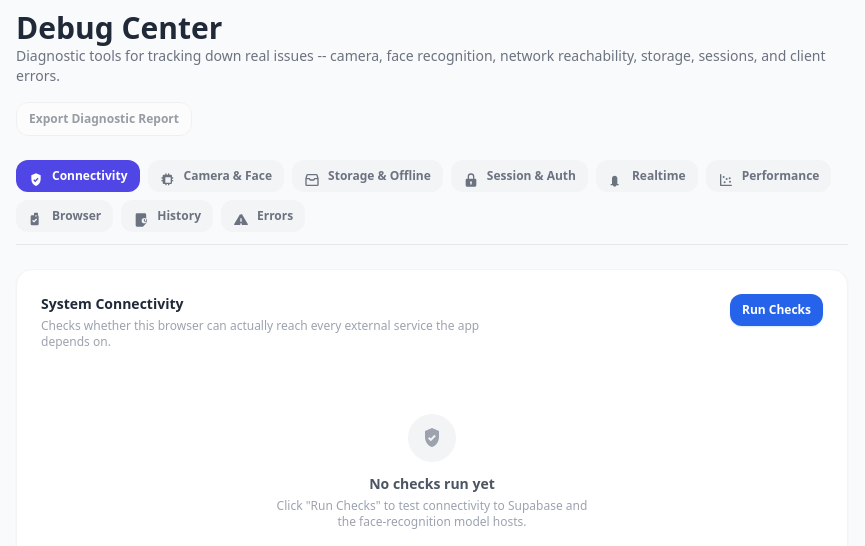
it: DebugCenterView › the History tab shows an empty state when no runs have happened yet
Click the button "History" at (167, 216), box 121,200 -> 213,232
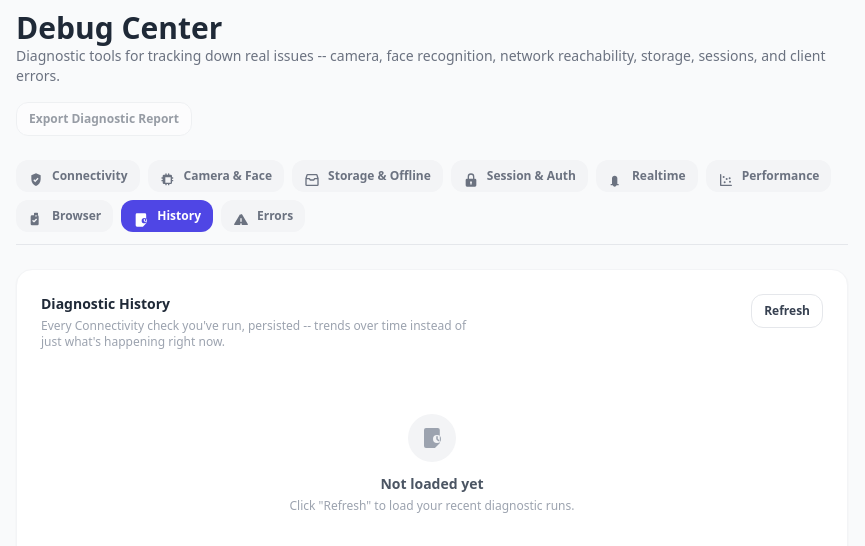
Click the button "Refresh" at (787, 311), box 751,294 -> 823,328
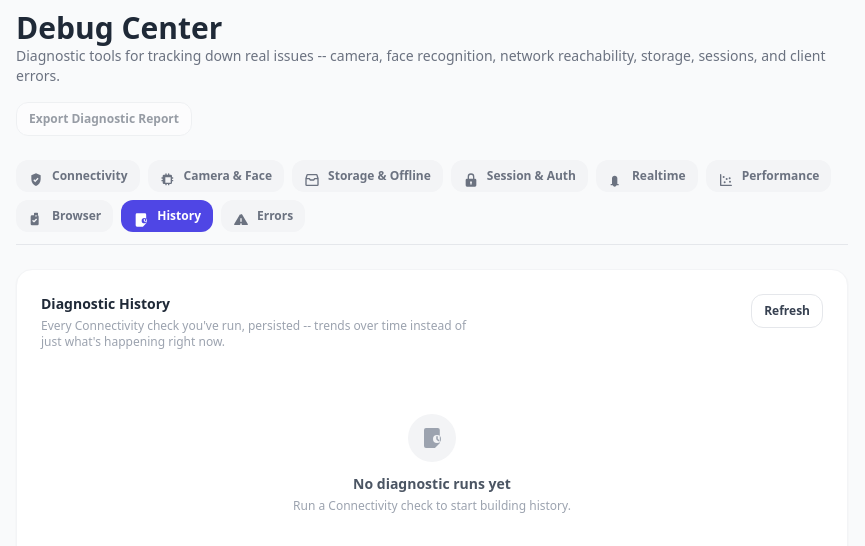
Result: the text "No diagnostic runs yet" is shown at 353,474 -> 511,494
